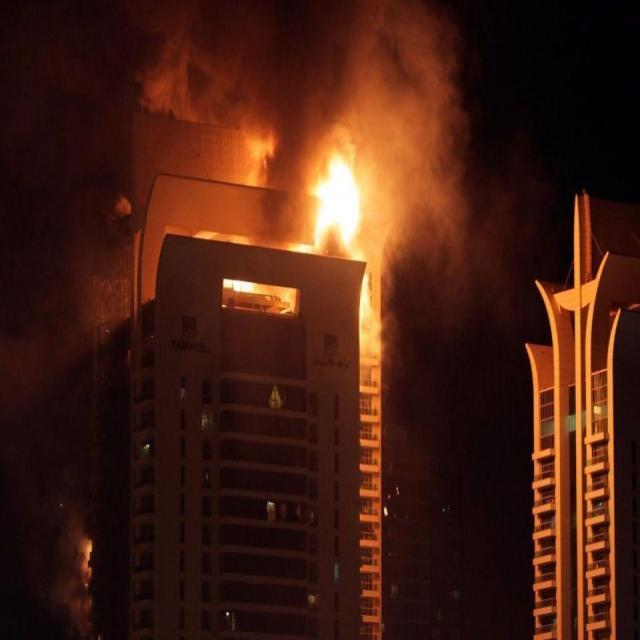Fire: (314, 146, 362, 256), (238, 124, 282, 188), (358, 274, 373, 346), (223, 278, 275, 296), (279, 288, 297, 316), (289, 236, 313, 253)
Smoke: (362, 0, 472, 259), (132, 0, 284, 124), (304, 18, 364, 149), (284, 110, 314, 246), (56, 504, 82, 624), (372, 260, 400, 368)
